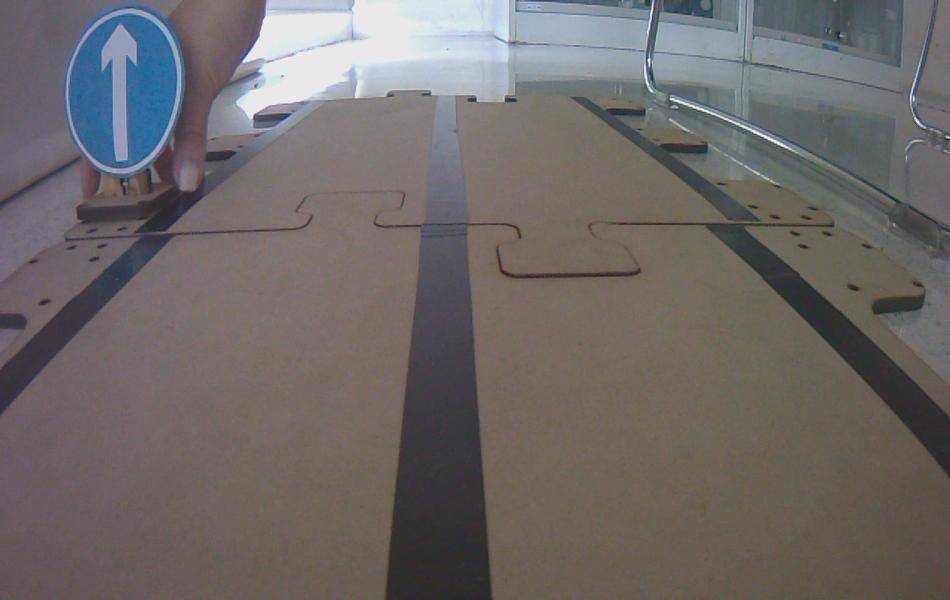straight: (68, 6, 186, 179)
